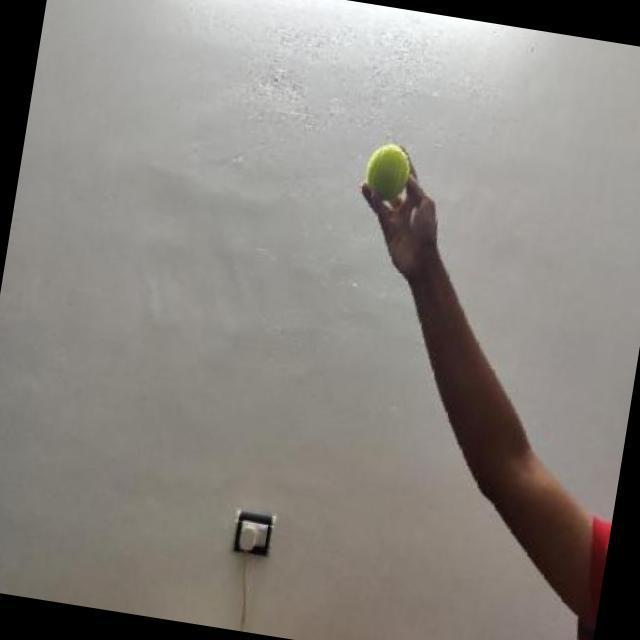-: (343, 125, 438, 228)
